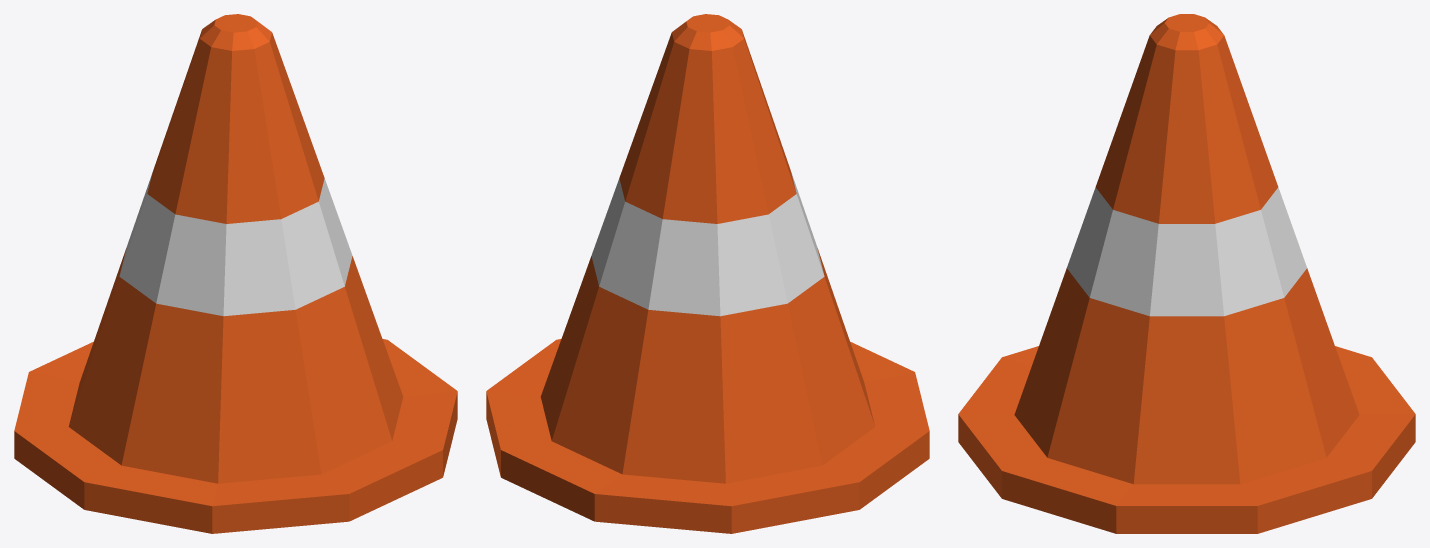
The picture shows the model from 3 angles, left to right: view 1: azimuth 30°, elevation 25°; view 2: azimuth 150°, elevation 25°; view 3: azimuth 270°, elevation 25°; orthographic projection.
Visible parts, largest first — view 1: cone; view 2: cone; view 3: cone.
Part boxes in pixels (box(x1,y1,x2,y2)): cone: box(14, 14, 457, 533); cone: box(486, 14, 929, 533); cone: box(958, 14, 1415, 533).
Size of the model in its own units: 2.03 by 2.16 by 2.13.
